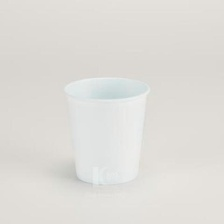paper_cup: (58, 72, 154, 188)
